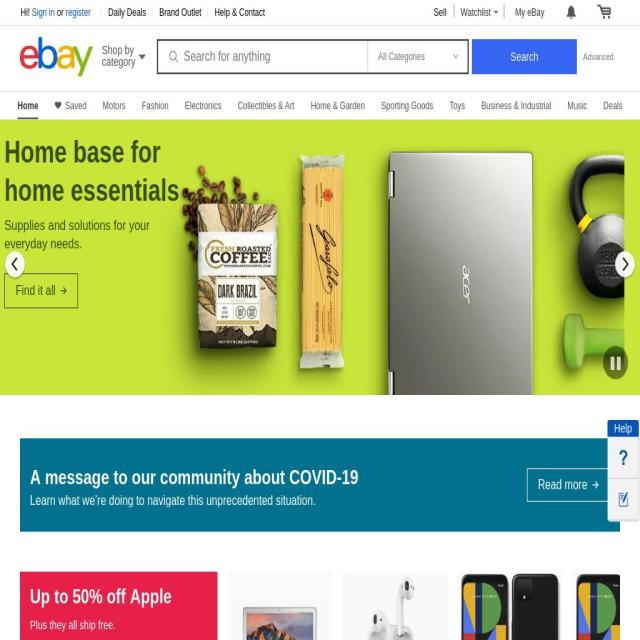button: (0, 120, 640, 395), (341, 571, 447, 640), (456, 571, 562, 640), (227, 571, 332, 640), (572, 571, 640, 640), (20, 36, 93, 76), (96, 36, 152, 72), (577, 40, 620, 73), (608, 478, 638, 520), (608, 437, 638, 478), (454, 1, 504, 22), (508, 1, 551, 22), (555, 1, 587, 22), (590, 1, 618, 22)
field: (159, 41, 365, 72), (472, 39, 577, 74), (368, 41, 468, 72)
heading: (30, 462, 517, 491), (20, 135, 195, 207), (20, 36, 176, 76), (30, 585, 172, 607), (608, 422, 638, 435)
image: (342, 571, 447, 640), (458, 571, 562, 640), (226, 596, 332, 640), (573, 571, 640, 640), (597, 4, 611, 19), (618, 450, 628, 465), (618, 492, 628, 506), (138, 54, 146, 60), (492, 10, 497, 15)
link: (481, 100, 551, 112), (237, 100, 295, 112), (310, 100, 366, 112), (381, 100, 433, 112), (214, 7, 266, 18), (159, 7, 201, 18), (184, 100, 222, 112), (108, 7, 147, 18), (142, 100, 169, 112), (102, 100, 126, 112), (66, 7, 91, 18), (65, 100, 87, 112), (32, 7, 55, 18), (567, 100, 587, 112), (603, 100, 623, 112), (450, 100, 466, 112), (434, 6, 447, 18)
text: (20, 218, 165, 252), (30, 492, 316, 508), (30, 618, 116, 632), (102, 44, 136, 68), (538, 478, 590, 492), (31, 284, 74, 298), (17, 100, 38, 119), (461, 6, 491, 18), (566, 4, 576, 20), (20, 7, 32, 18), (57, 7, 66, 18)
